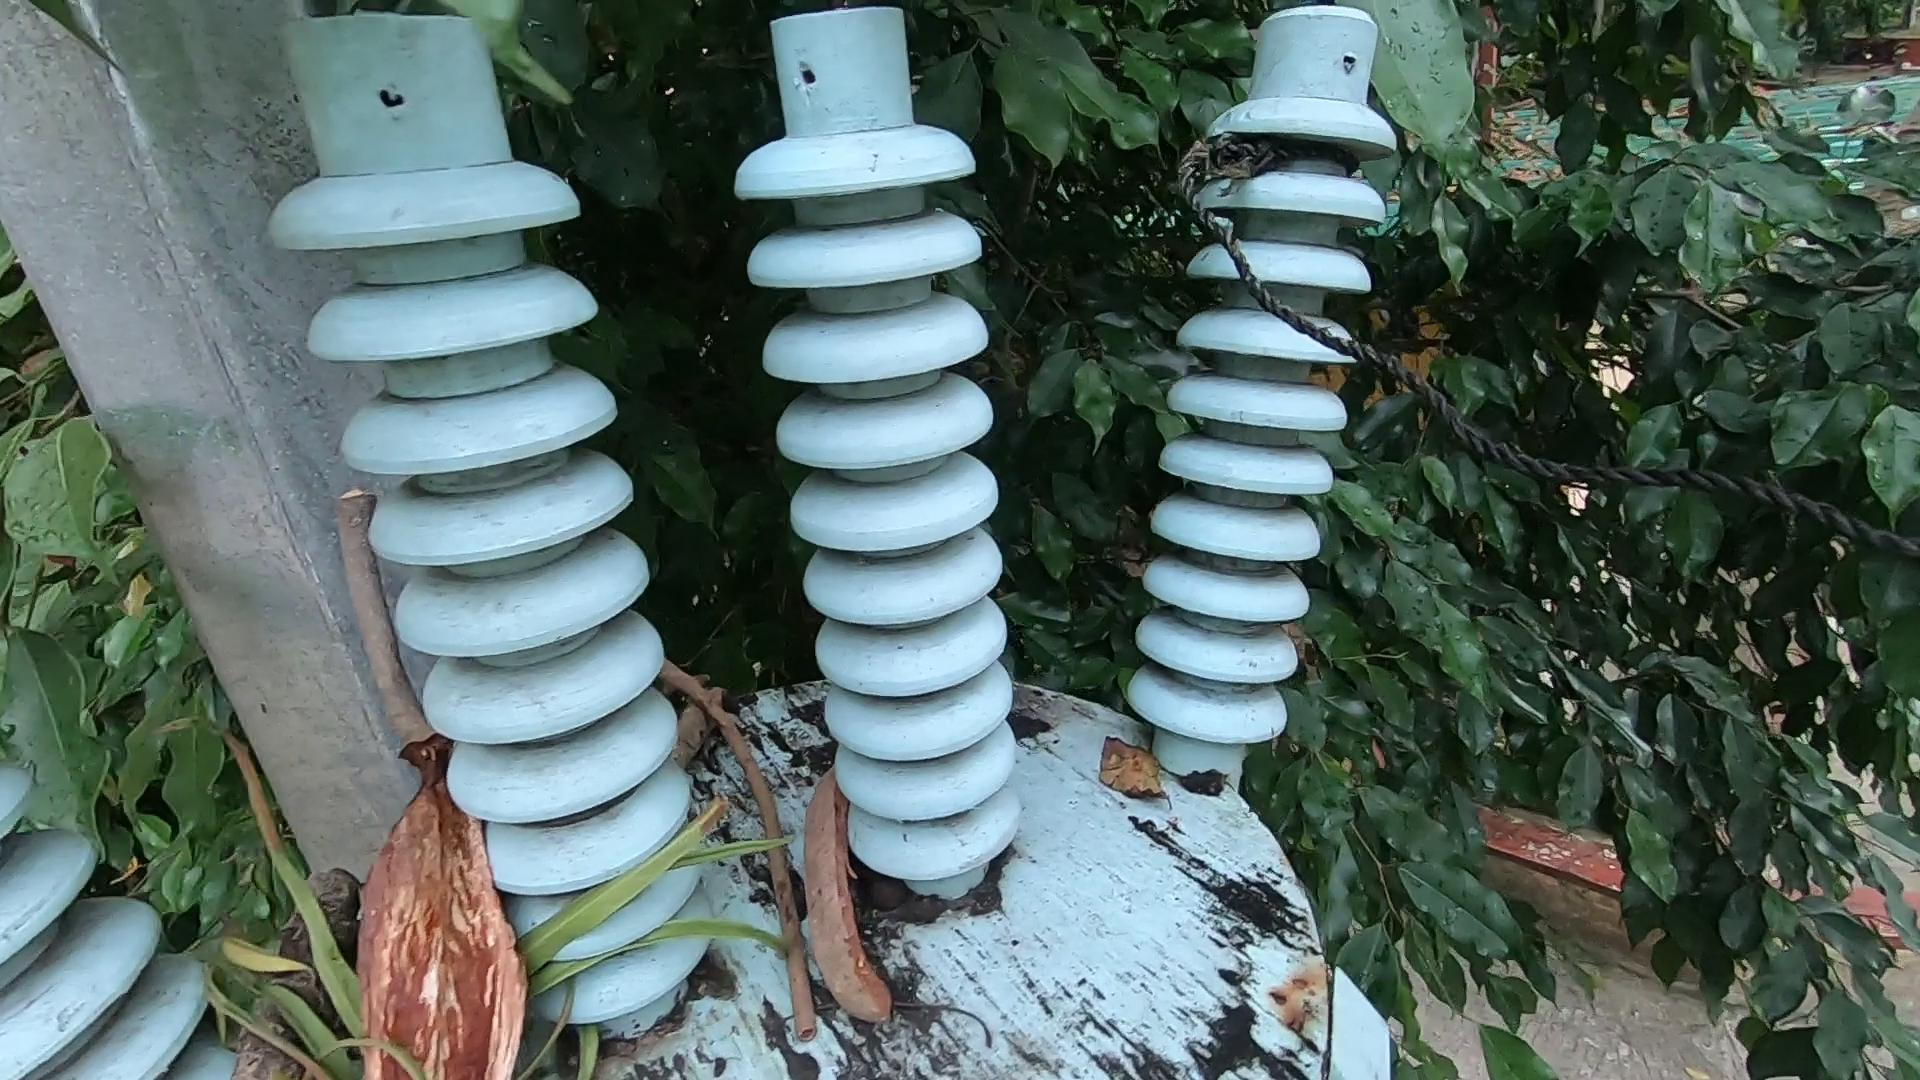branch with leaves: (222, 811, 799, 1073)
leaf: (1068, 698, 1278, 843)
mahogany fruit: (364, 742, 558, 1080), (806, 744, 913, 1067)
tree branch: (651, 644, 833, 1048), (343, 473, 473, 771)
